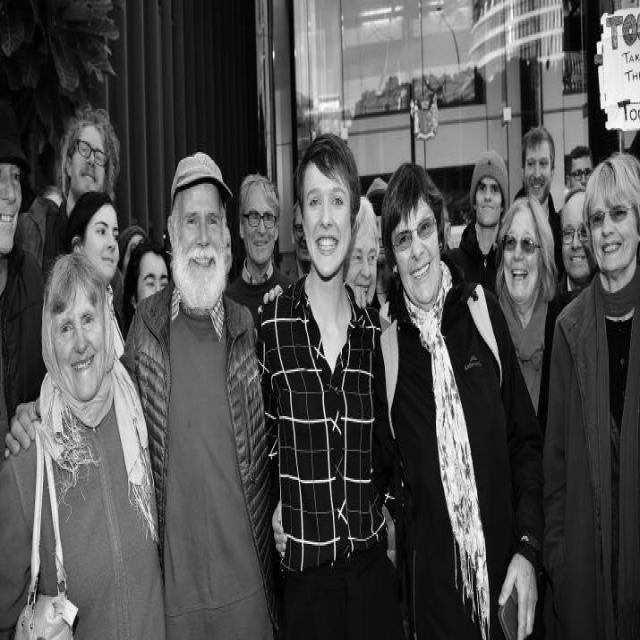person: (374, 150, 525, 637), (124, 161, 275, 639), (1, 212, 169, 639), (252, 163, 398, 637), (543, 139, 640, 640), (477, 164, 575, 636), (228, 172, 296, 330), (68, 196, 128, 345), (507, 130, 564, 273), (455, 156, 512, 295), (58, 100, 120, 196), (121, 239, 169, 334), (352, 202, 384, 318), (0, 136, 28, 258)
